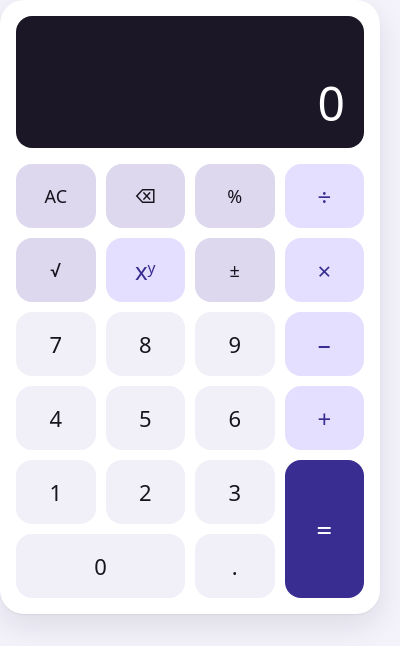
it: <Calculator /> › shows a friendly message for division by zero and recovers
This screenshot has width=400, height=646.
Click the button "7". click: (56, 344)
box: [16,312,96,376]
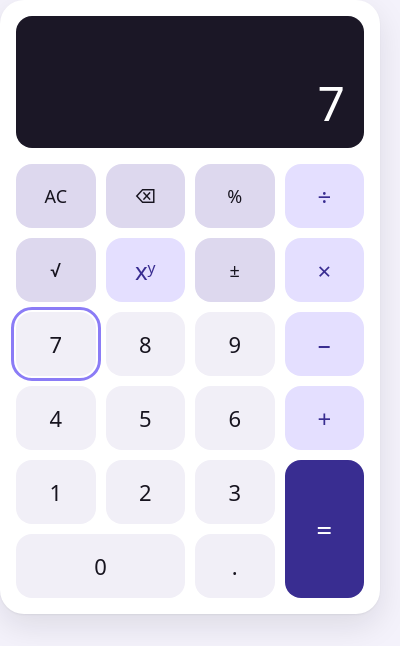
Click the button named "Divide". click: (324, 196)
box: [284,164,364,228]
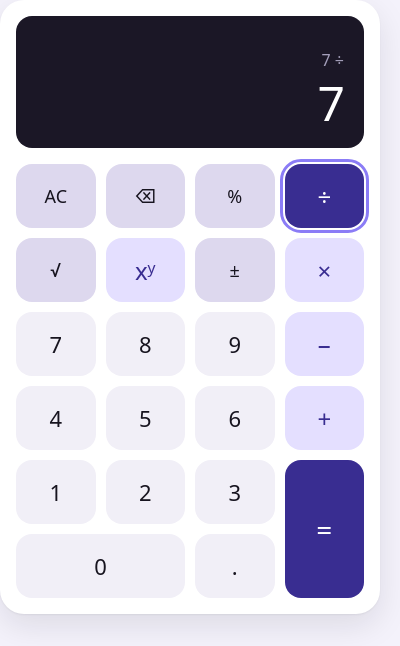
Click the button "0". click: (100, 566)
box: [16,534,185,598]
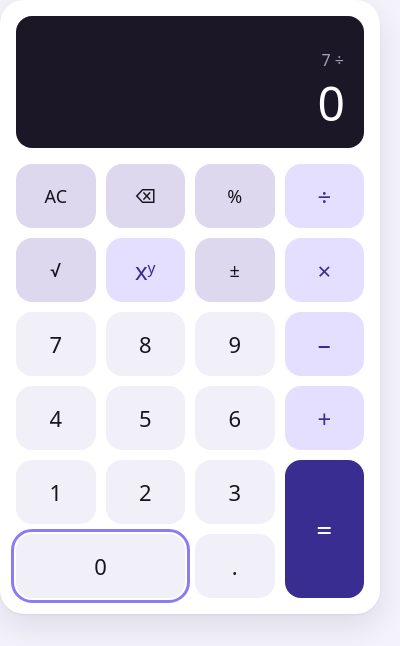
Click the button named "Equals". click: (324, 529)
box: [284,460,364,598]
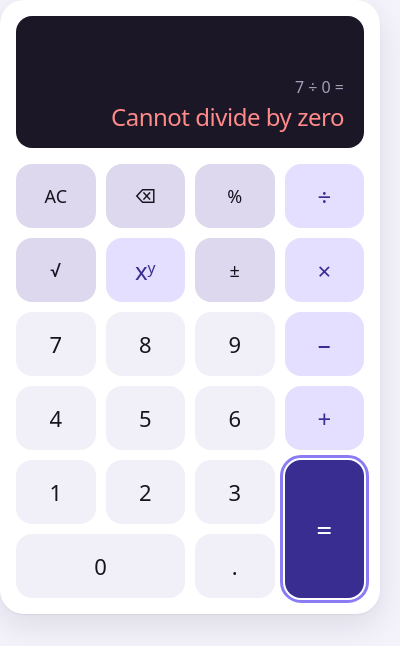
Expected: the text with test id "display-value" reads "Cannot divide by zero", [111,100,344,133]
Click the button "4". click: (56, 418)
box: [16,386,96,450]
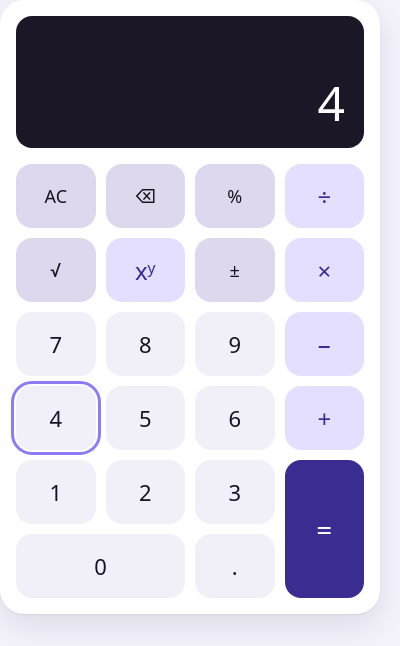
Expected: the text with test id "display-value" reads "4", [318,70,344,135]
